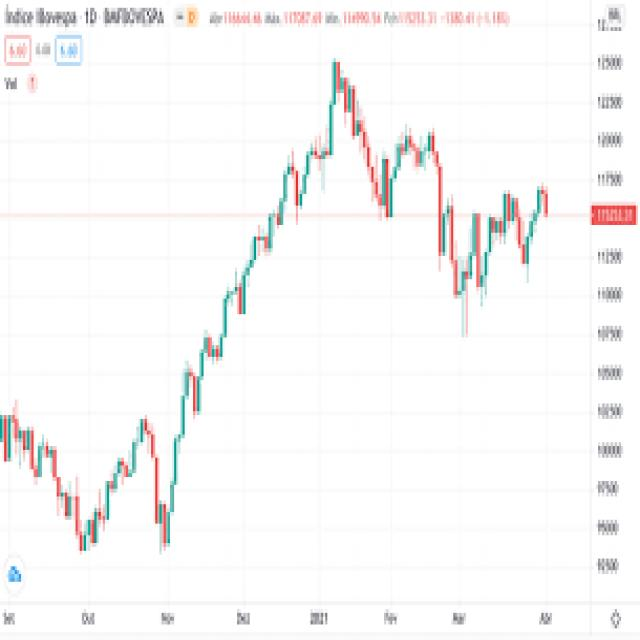topo_duplo: (388, 116, 449, 182)
